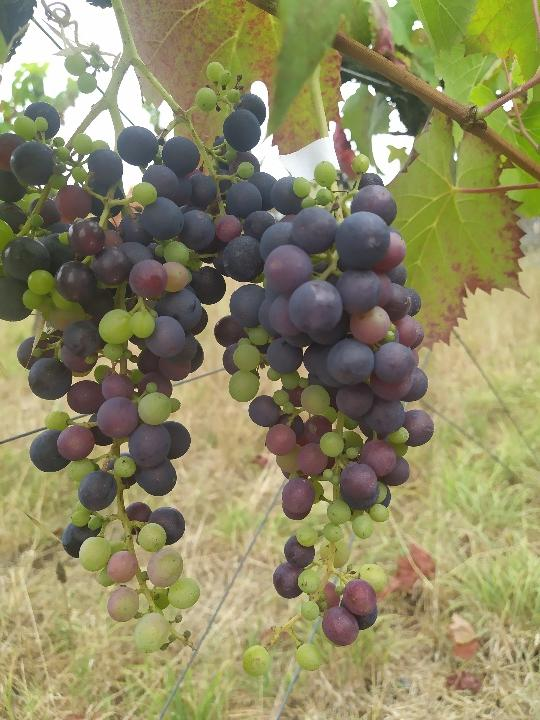grape: (2, 51, 265, 658), (211, 156, 437, 681)
